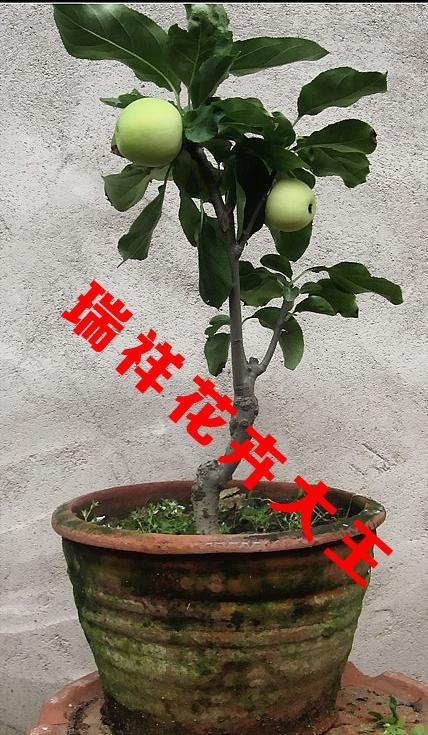apple: (112, 99, 182, 168), (264, 178, 314, 232)
